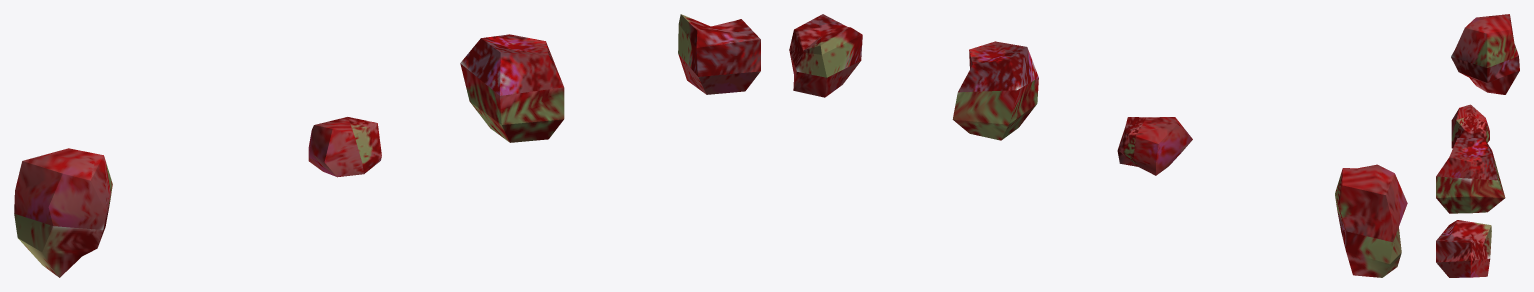
Rendered from gojjs6.fbx.
3 renders of one model, left to right at view 1: azimuth 30°, elevation 25°; view 2: azimuth 150°, elevation 25°; view 3: azimuth 270°, elevation 25°, orthographic. The views are drawn at different scales.
Visible parts, largest first — view 1: pCylinder1, pSphere1, pSphere2, pCube1; view 2: pCylinder1, pSphere1, pSphere2, pCube1; view 3: pSphere1, pCylinder1, pSphere2, pCube1.
Part boxes in pixels (x1=…): pCylinder1: x1=14, y1=148, x2=112, y2=277; pSphere1: x1=460, y1=34, x2=564, y2=142; pSphere2: x1=678, y1=14, x2=760, y2=94; pCube1: x1=308, y1=117, x2=381, y2=177; pCylinder1: x1=1335, y1=164, x2=1407, y2=277; pSphere1: x1=952, y1=41, x2=1038, y2=140; pSphere2: x1=789, y1=14, x2=862, y2=97; pCube1: x1=1117, y1=117, x2=1192, y2=175; pSphere1: x1=1436, y1=138, x2=1505, y2=213; pCylinder1: x1=1451, y1=14, x2=1519, y2=94; pSphere2: x1=1436, y1=220, x2=1491, y2=277; pCube1: x1=1451, y1=104, x2=1489, y2=148.
Bounding box in the file's own units: 14.19 × 2.53 × 2.19.
Materials: 4 (4 with a texture image).
